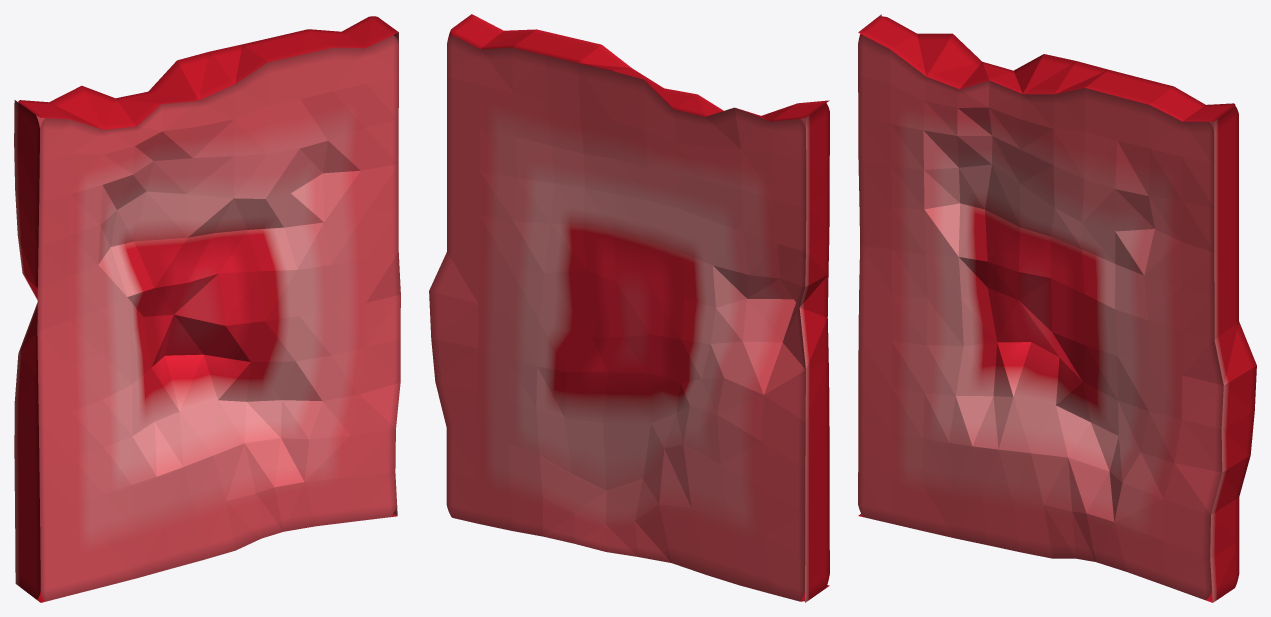
File: red_moongate_0776x09.obj
3 renders of one model, left to right at view 1: azimuth 30°, elevation 25°; view 2: azimuth 150°, elevation 25°; view 3: azimuth 330°, elevation 25°, orthographic.
Parts seen in each view (by area): view 1: red_moongate_0776x09; view 2: red_moongate_0776x09; view 3: red_moongate_0776x09.
Part boxes in pixels (box(x1,y1,x2,y2)): red_moongate_0776x09: box(14, 16, 400, 602); red_moongate_0776x09: box(429, 14, 829, 602); red_moongate_0776x09: box(858, 14, 1256, 602).
Bounding box in the file's own units: 4.33 × 5.35 × 0.6322.
